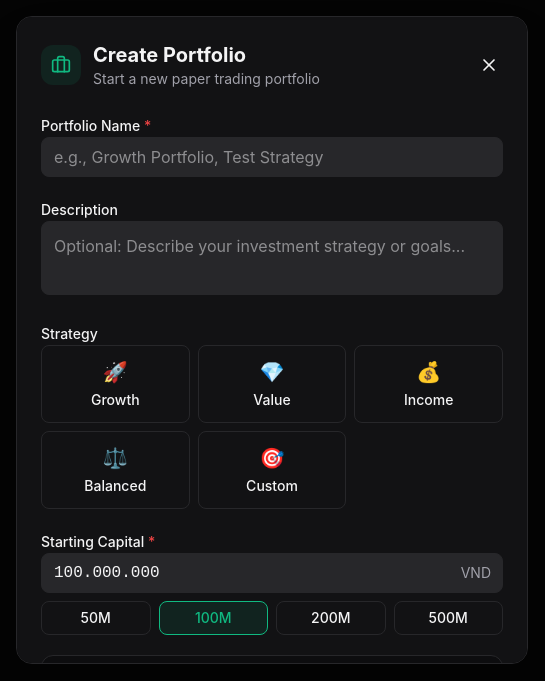
Test: CreatePortfolioDialog › selects a strategy when button is clicked
Click the text "Growth" at (115, 400), box [91,390,140,410]
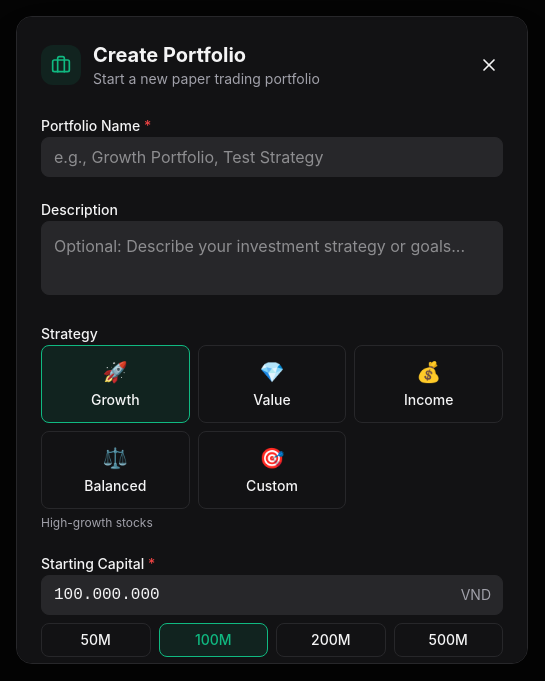
Expected: the text "High-growth stocks" is shown, [41,515,153,530]
